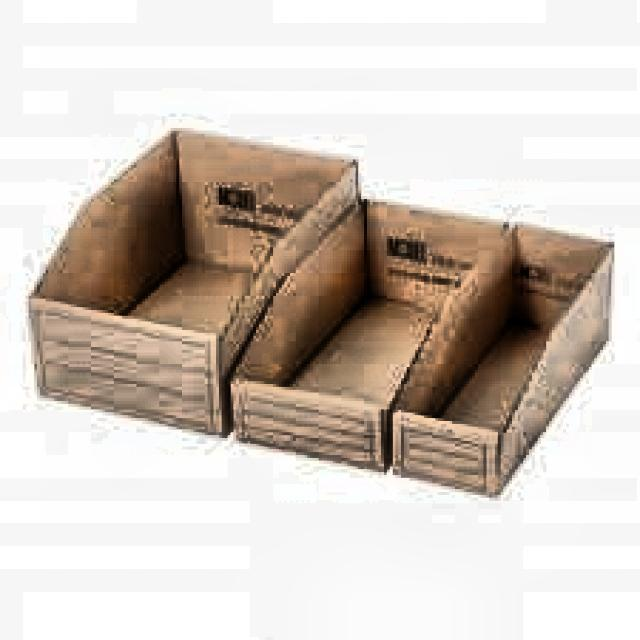cardboard: (26, 125, 614, 498)
